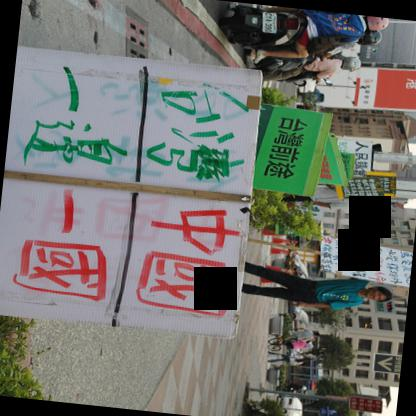handbag: (305, 34, 358, 55)
